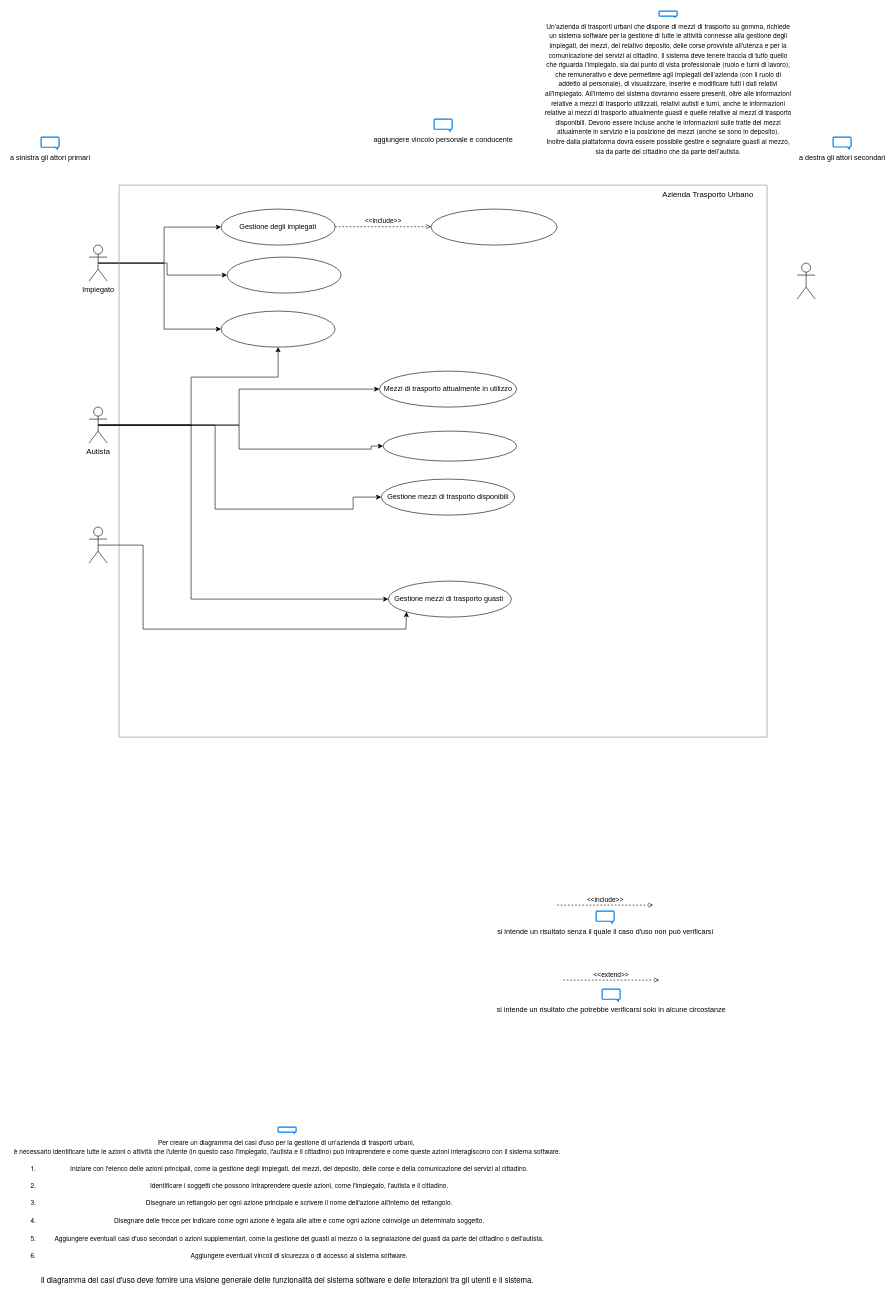
Image size: 896x1306. Some labels were removed from this diagram. Each missing label, with the centre of its shape:
"Accesso come addetto al personale" goes at (493,226).
"Cittadino" goes at (97,544).
"Posizione mezzi di trasporto" goes at (449,445).
"Retribuzione" goes at (283,274).
"Sistema Software" goes at (805,280).
"Visualizzazione turni di lavoro" goes at (277,328).
